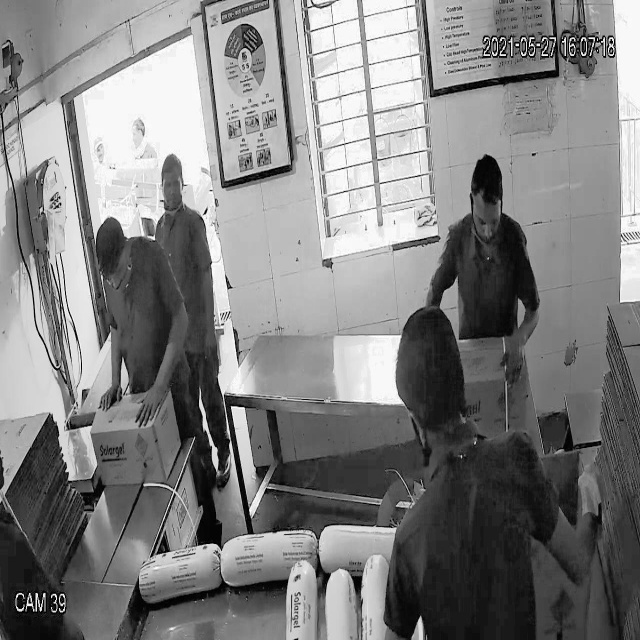Sin_gafas: (467, 199, 508, 237)
